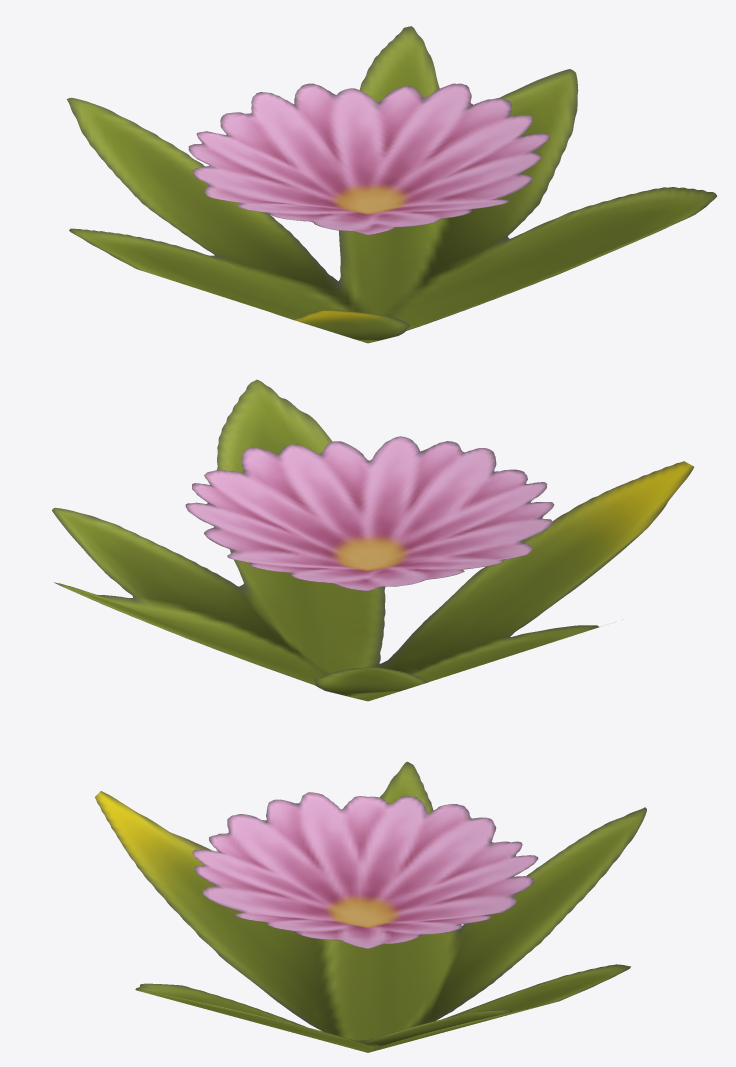
File: Jungle_flower_04.fbx
3 renders of one model, top to bottom at view 1: azimuth 30°, elevation 25°; view 2: azimuth 150°, elevation 25°; view 3: azimuth 270°, elevation 25°, orthographic. The views are drawn at different scales.
Visible parts, largest first — view 1: Jungle_flower_04; view 2: Jungle_flower_04; view 3: Jungle_flower_04.
Part boxes in pixels (box(x1,y1,x2,y2)): Jungle_flower_04: box(67, 26, 716, 343); Jungle_flower_04: box(52, 379, 693, 701); Jungle_flower_04: box(95, 761, 646, 1052).
Bounding box in the file's own units: 53.84 × 15.91 × 53.84.
